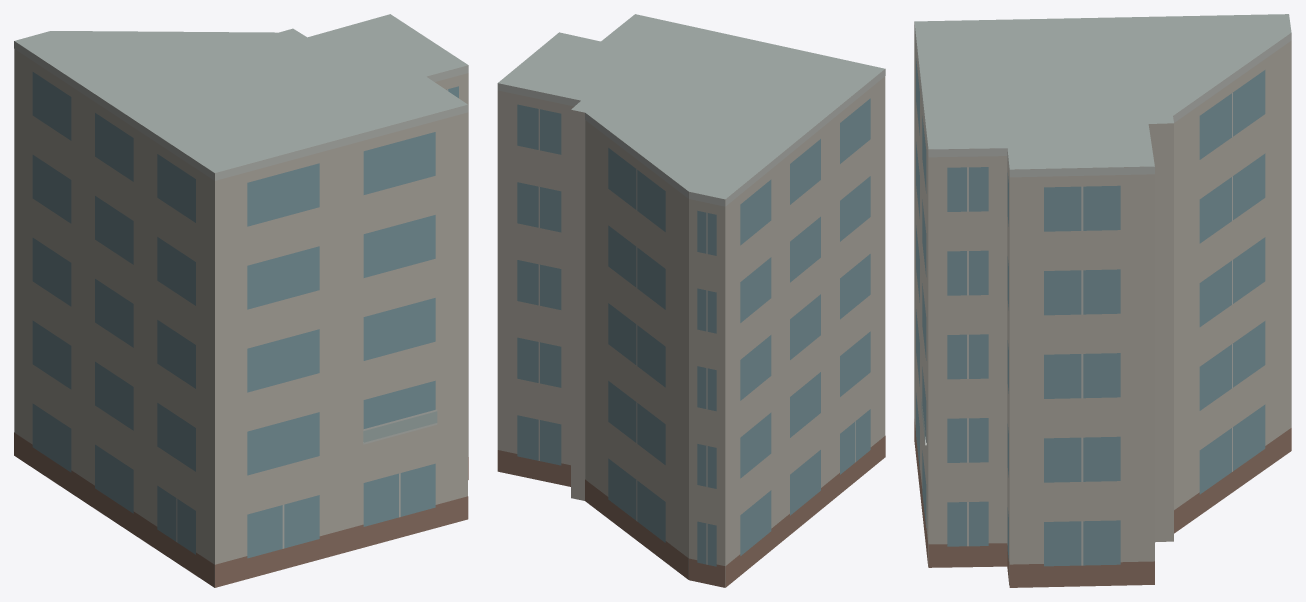
File: survey-upis-32988691.glb
3 views of the same model, side by side, from view 1: azimuth 30°, elevation 25°; view 2: azimuth 150°, elevation 25°; view 3: azimuth 270°, elevation 25° (orthographic). The views are drawn at different scales.
Parts seen in each view (by area): view 1: survey-upis-32988691.tmp; view 2: survey-upis-32988691.tmp; view 3: survey-upis-32988691.tmp.
Part boxes in pixels (x1,y1,x2,y2): survey-upis-32988691.tmp: (14, 14, 468, 587); survey-upis-32988691.tmp: (497, 14, 885, 587); survey-upis-32988691.tmp: (914, 14, 1291, 587).
Bounding box in the file's own units: 10.38 × 13 × 10.63.
